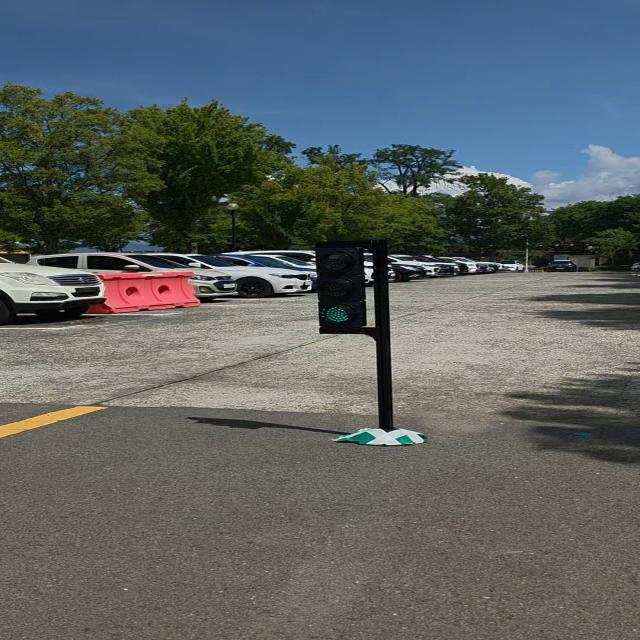green: (317, 246, 366, 333)
